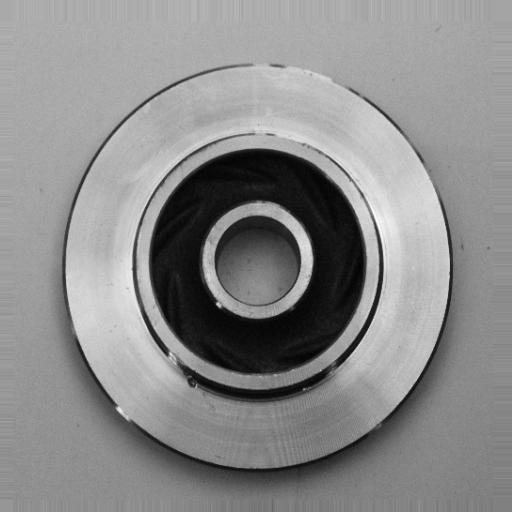pit: (178, 366, 206, 394)
scratch: (252, 45, 364, 98), (247, 120, 327, 159), (104, 396, 147, 434)
unpolished_casting: (60, 56, 455, 479)
